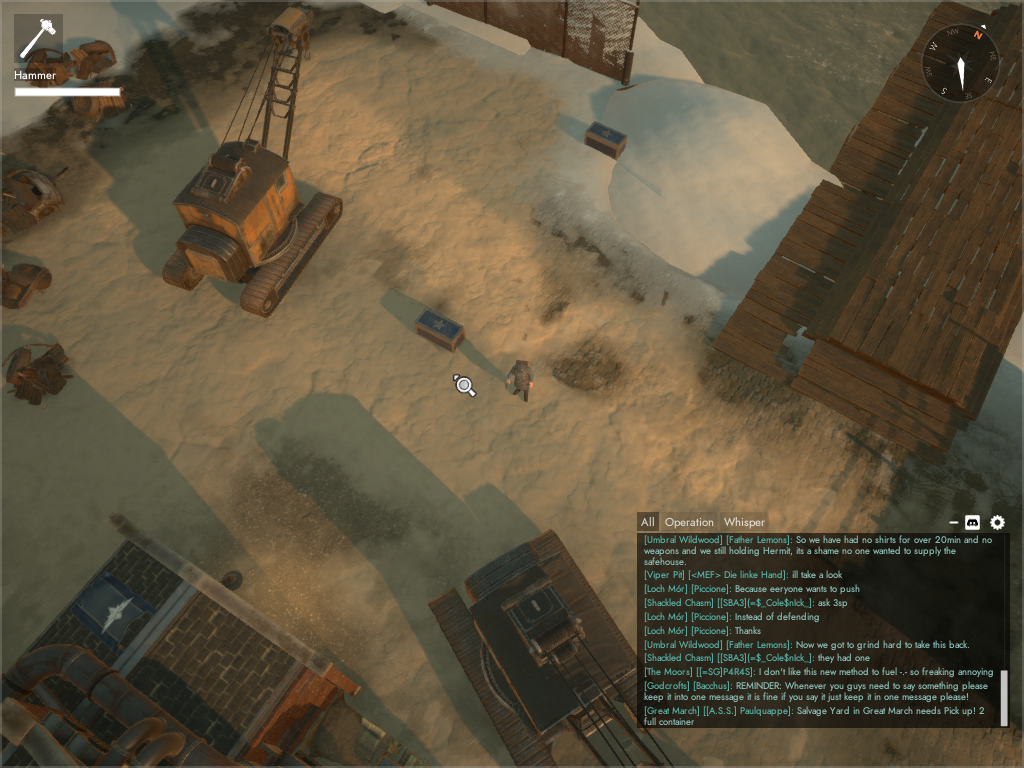crane: (428, 530, 677, 768), (161, 6, 343, 319)
player: (504, 360, 534, 403)
scrap: (4, 335, 79, 414), (1, 167, 69, 235), (70, 82, 137, 123), (1, 264, 51, 309), (24, 47, 75, 90), (66, 40, 118, 81)
storage_box: (413, 304, 469, 352), (579, 119, 630, 160)
